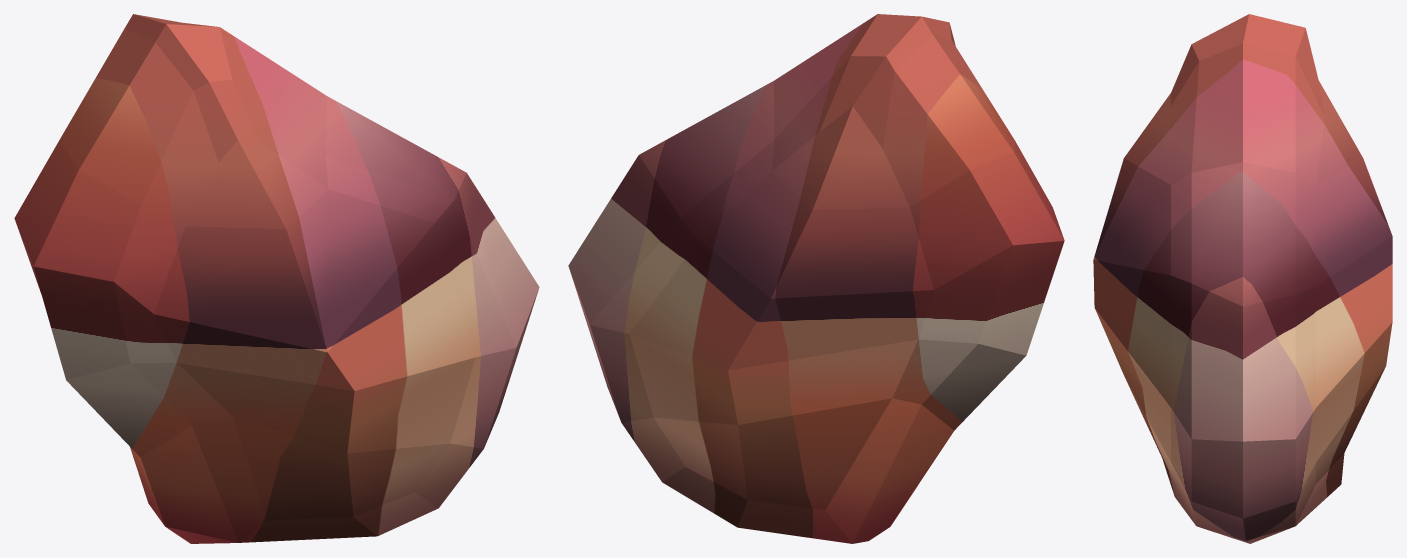
Rendered from SM_Rock.fbx.
3 renders of one model, left to right at view 1: azimuth 30°, elevation 25°; view 2: azimuth 150°, elevation 25°; view 3: azimuth 270°, elevation 25°, orthographic. The views are drawn at different scales.
Visible parts, largest first — view 1: SM_Rock; view 2: SM_Rock; view 3: SM_Rock.
Part boxes in pixels (x1,y1,x2,y2): SM_Rock: (14, 14, 539, 543); SM_Rock: (568, 14, 1064, 543); SM_Rock: (1093, 14, 1392, 543).
Size of the model in its own units: 344 by 348 by 217.
